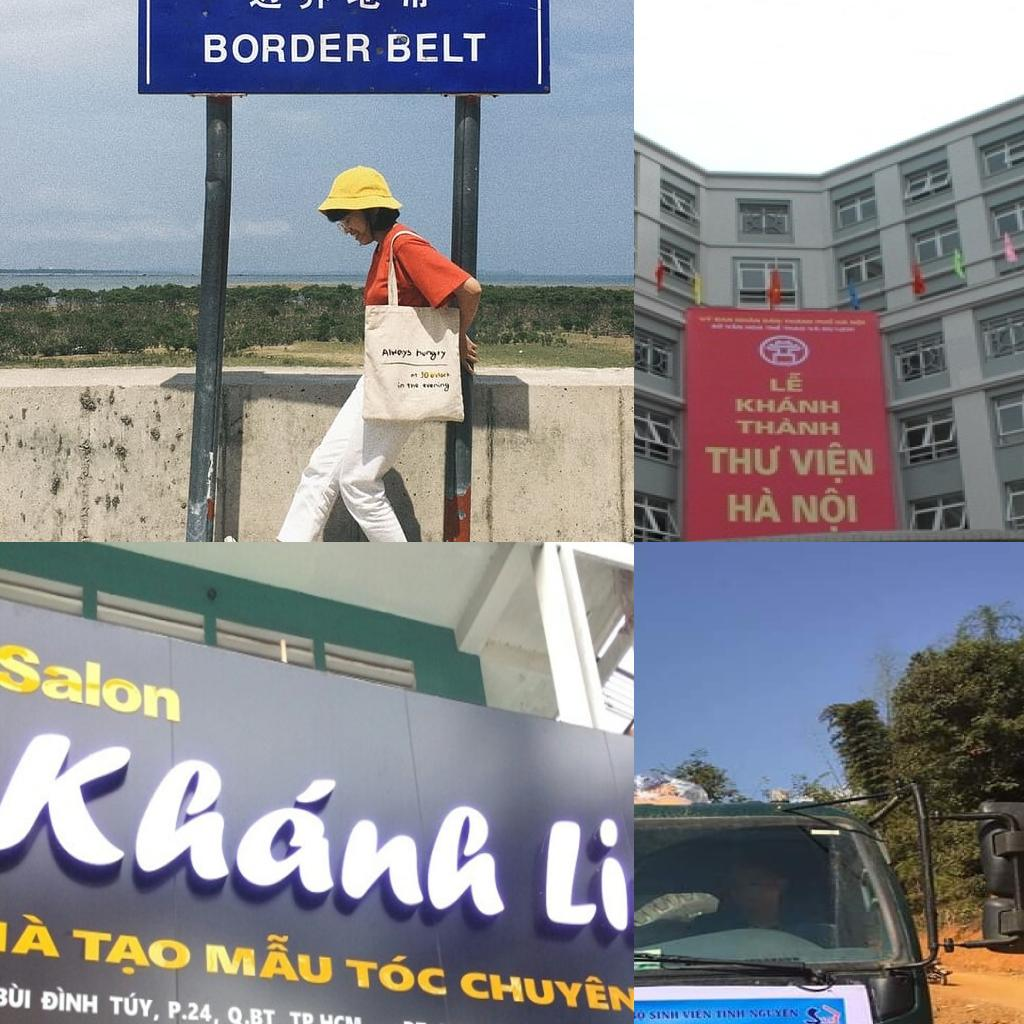text: (0, 724, 511, 926), (0, 639, 183, 725), (540, 809, 634, 957), (457, 962, 634, 1015), (204, 928, 335, 989), (71, 926, 195, 983), (202, 31, 373, 65), (344, 946, 450, 999), (787, 442, 875, 486), (0, 898, 61, 960), (386, 30, 488, 65), (702, 443, 782, 478), (735, 416, 843, 437), (732, 396, 842, 416), (728, 487, 785, 524), (107, 987, 162, 1024), (41, 983, 100, 1017), (166, 998, 222, 1024), (226, 1003, 283, 1024), (289, 1009, 365, 1024), (0, 979, 33, 1011), (768, 371, 805, 394), (748, 1007, 802, 1020), (415, 347, 449, 363), (714, 1008, 749, 1021), (648, 1009, 682, 1022), (681, 1008, 715, 1021), (380, 347, 413, 360), (400, 1017, 435, 1024), (634, 1008, 648, 1022), (406, 382, 420, 391), (420, 370, 431, 380), (397, 380, 406, 390)
